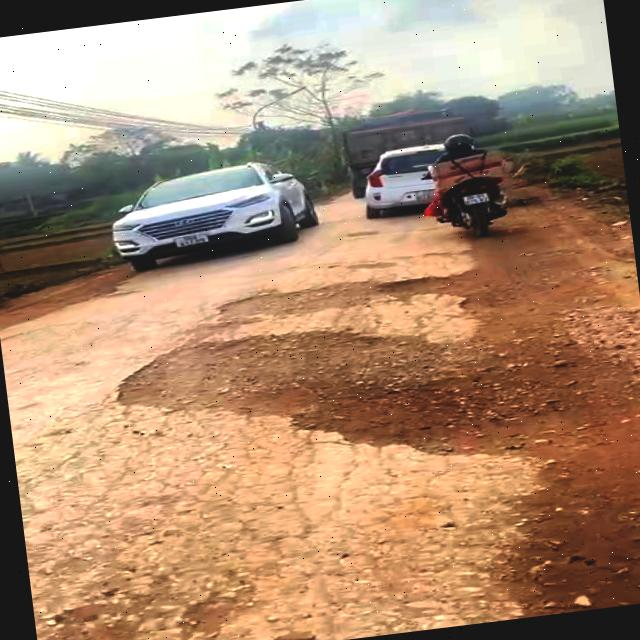pothole: (99, 296, 596, 508), (473, 452, 640, 621), (196, 260, 498, 347), (31, 561, 283, 640)
